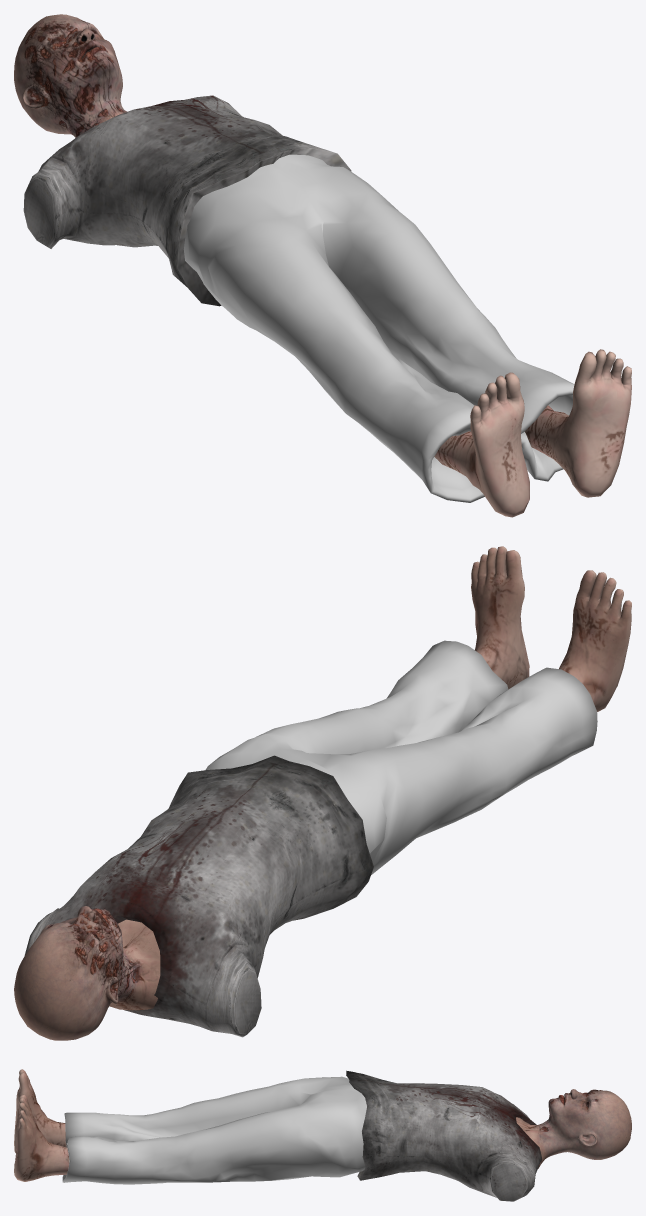
The model's file is corps_cadavre_1.fbx.
3 renders of one model, top to bottom at view 1: azimuth 30°, elevation 25°; view 2: azimuth 150°, elevation 25°; view 3: azimuth 270°, elevation 25°, orthographic. The views are drawn at different scales.
Visible parts, largest first — view 1: Corp_cadavre_1; view 2: Corp_cadavre_1; view 3: Corp_cadavre_1.
Part boxes in pixels (left/top/right/bottom): Corp_cadavre_1: left=14, top=14, right=631, bottom=517; Corp_cadavre_1: left=14, top=546, right=631, bottom=1040; Corp_cadavre_1: left=14, top=1069, right=631, bottom=1201.
Size of the model in its own units: 60.2 by 44.64 by 260.
